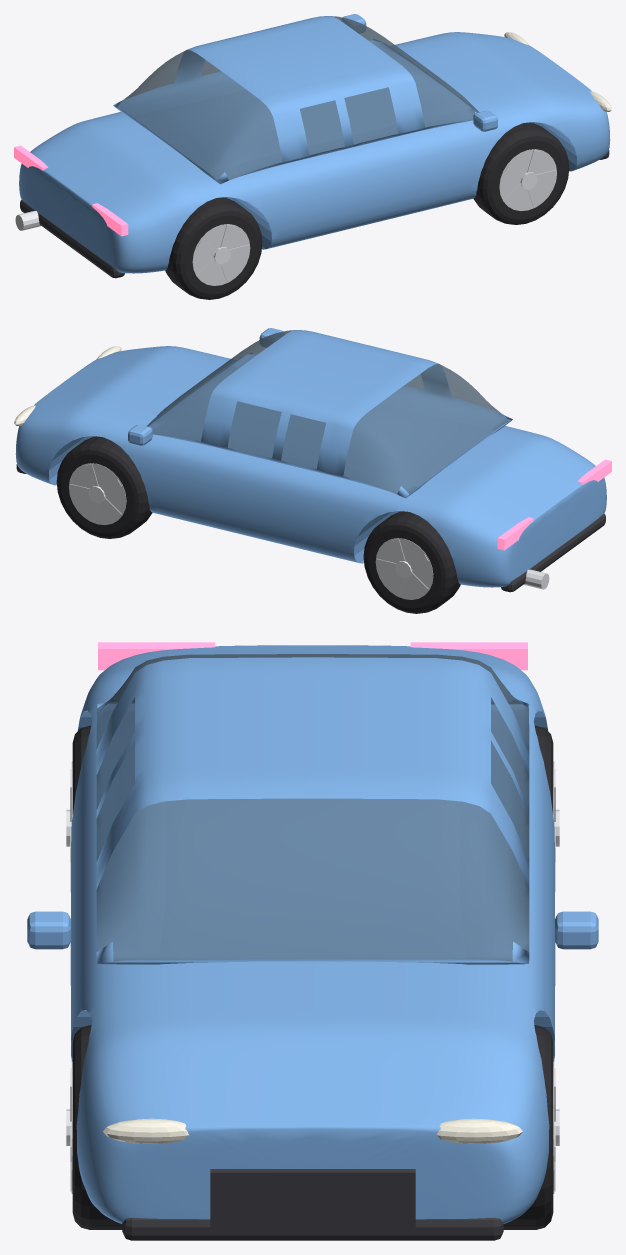
The model's file is street_runner.fbx.
The picture shows the model from 3 angles, top to bottom: view 1: azimuth 30°, elevation 25°; view 2: azimuth 150°, elevation 25°; view 3: azimuth 270°, elevation 25°; orthographic projection. The views are drawn at different scales.
Visible parts, largest first — view 1: Body.004, Glass.004, Tire.004, Rim.004, Trim.004, TailLight.004, Chrome.004; view 2: Body.004, Glass.004, Tire.004, Rim.004, Trim.004, TailLight.004, Chrome.004; view 3: Body.004, Glass.004, Trim.004, Tire.004, HeadLight.004, TailLight.004, Rim.004.
Part boxes in pixels (<box>): Body.004: <box>19,14,610,273</box>; Glass.004: <box>117,16,479,180</box>; Tire.004: <box>165,122,569,299</box>; Rim.004: <box>192,149,556,285</box>; Trim.004: <box>20,150,609,278</box>; TailLight.004: <box>14,145,128,236</box>; Chrome.004: <box>15,172,537,264</box>; Body.004: <box>15,328,606,587</box>; Glass.004: <box>147,330,508,494</box>; Tire.004: <box>56,436,460,613</box>; Rim.004: <box>69,463,433,599</box>; Trim.004: <box>16,464,605,592</box>; TailLight.004: <box>497,459,611,550</box>; Chrome.004: <box>88,486,549,589</box>; Body.004: <box>27,645,598,1223</box>; Glass.004: <box>96,654,529,961</box>; Trim.004: <box>122,1169,503,1240</box>; Tire.004: <box>72,725,553,1229</box>; HeadLight.004: <box>103,1118,522,1143</box>; TailLight.004: <box>98,642,527,670</box>; Rim.004: <box>70,761,555,1193</box>.
Size of the model in its own units: 1510 by 465 by 724.
